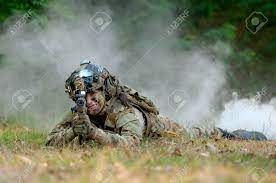gun: (69, 92, 95, 132)
